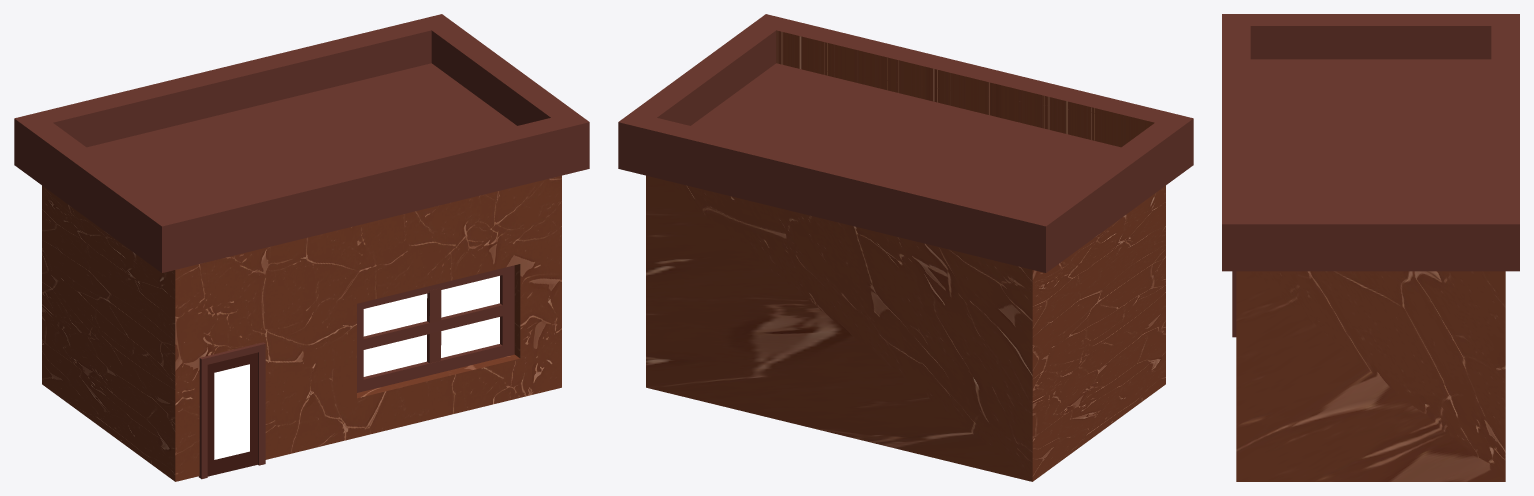
The model's file is Detectives office.fbx.
3 renders of one model, left to right at view 1: azimuth 30°, elevation 25°; view 2: azimuth 150°, elevation 25°; view 3: azimuth 270°, elevation 25°, orthographic.
Parts seen in each view (by area): view 1: Detectives office; view 2: Detectives office; view 3: Detectives office.
Part boxes in pixels (bbox=[...]): Detectives office: bbox=[14, 14, 589, 481]; Detectives office: bbox=[618, 14, 1193, 481]; Detectives office: bbox=[1222, 14, 1519, 481].
Bounding box in the file's own units: 1540 × 921 × 921.
4 materials, 1 textured.
